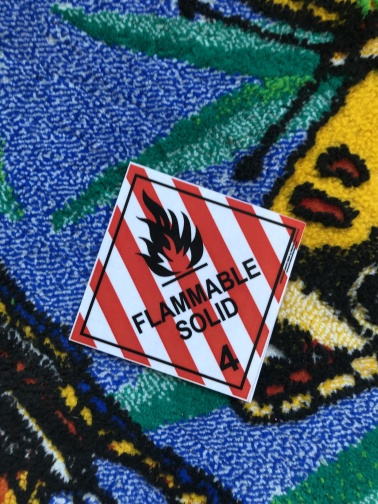FlammableSolid: (77, 174, 296, 392)
